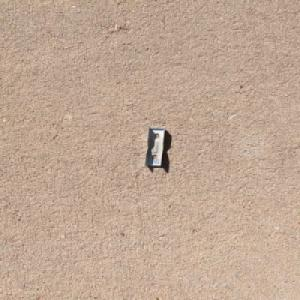ClampPart: (144, 125, 166, 167)
